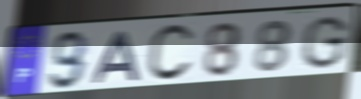8: (203, 20, 244, 79), (253, 18, 294, 74)
9: (48, 29, 92, 91)
A: (91, 30, 143, 86)
C: (144, 22, 197, 84)
G: (298, 14, 351, 71)
